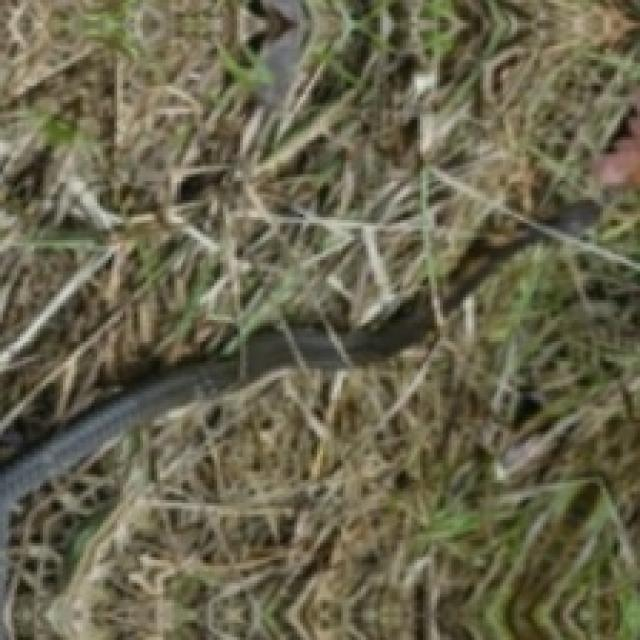king cobra: (11, 240, 637, 637)
